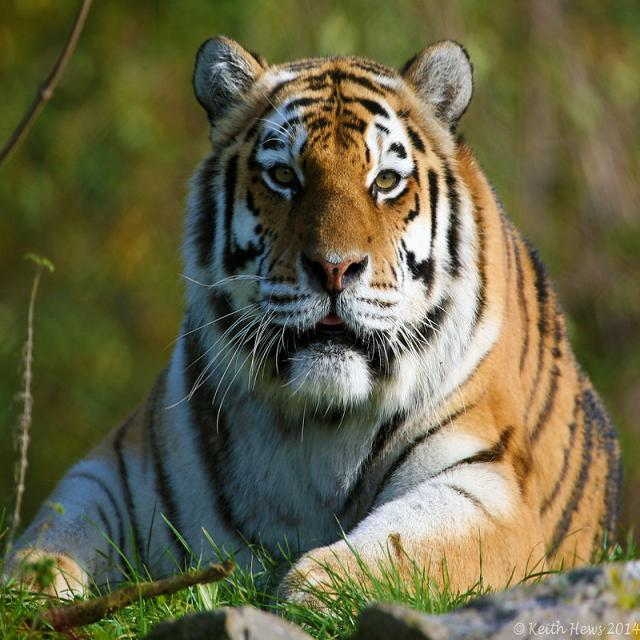Tiger: (0, 32, 618, 637)
